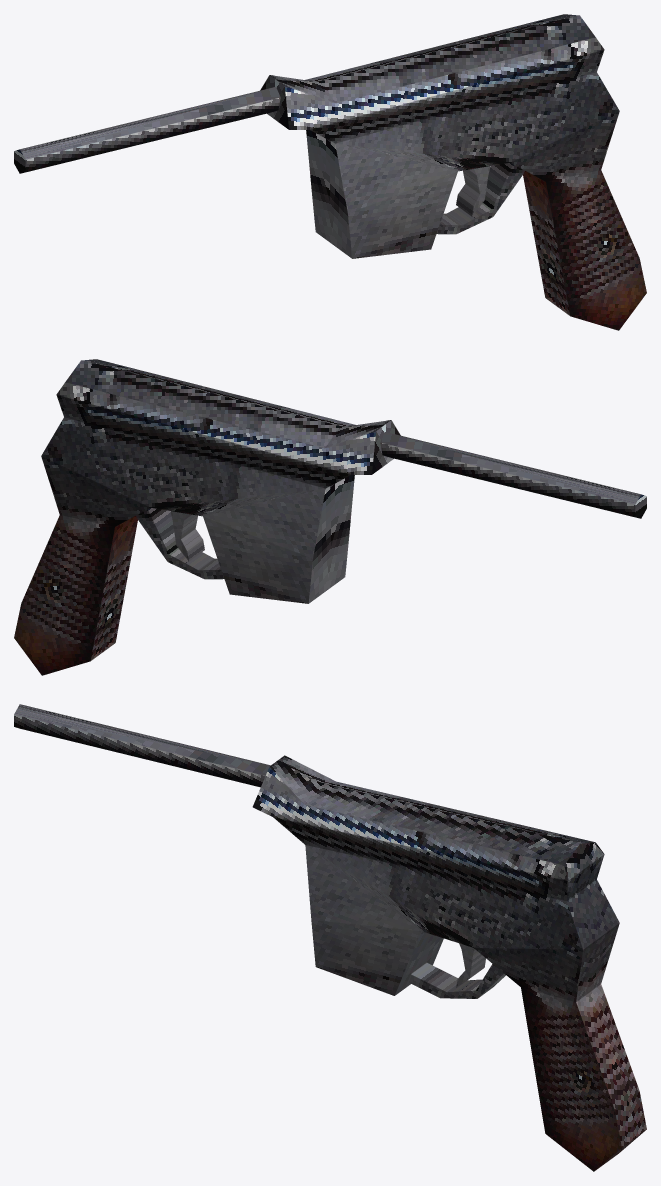
The model's file is mauser.glb.
The picture shows the model from 3 angles, top to bottom: view 1: azimuth 30°, elevation 25°; view 2: azimuth 150°, elevation 25°; view 3: azimuth 330°, elevation 25°; orthographic projection.
Parts seen in each view (by area): view 1: Cube; view 2: Cube; view 3: Cube.
Part boxes in pixels (box(x1,y1,x2,y2)): Cube: box(14, 14, 646, 330); Cube: box(14, 359, 646, 675); Cube: box(14, 704, 646, 1171).
Size of the model in its own units: 8.31 by 4.15 by 0.8577.
Materials: 1 (1 with a texture image).
